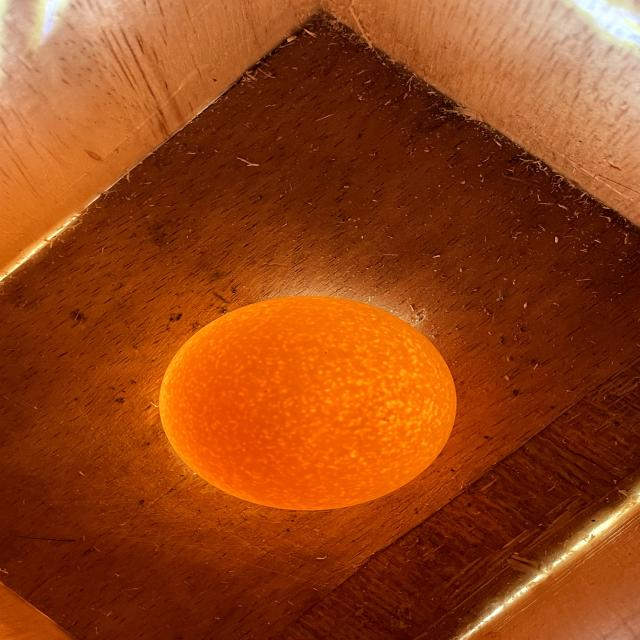infertile: (160, 296, 457, 510)
